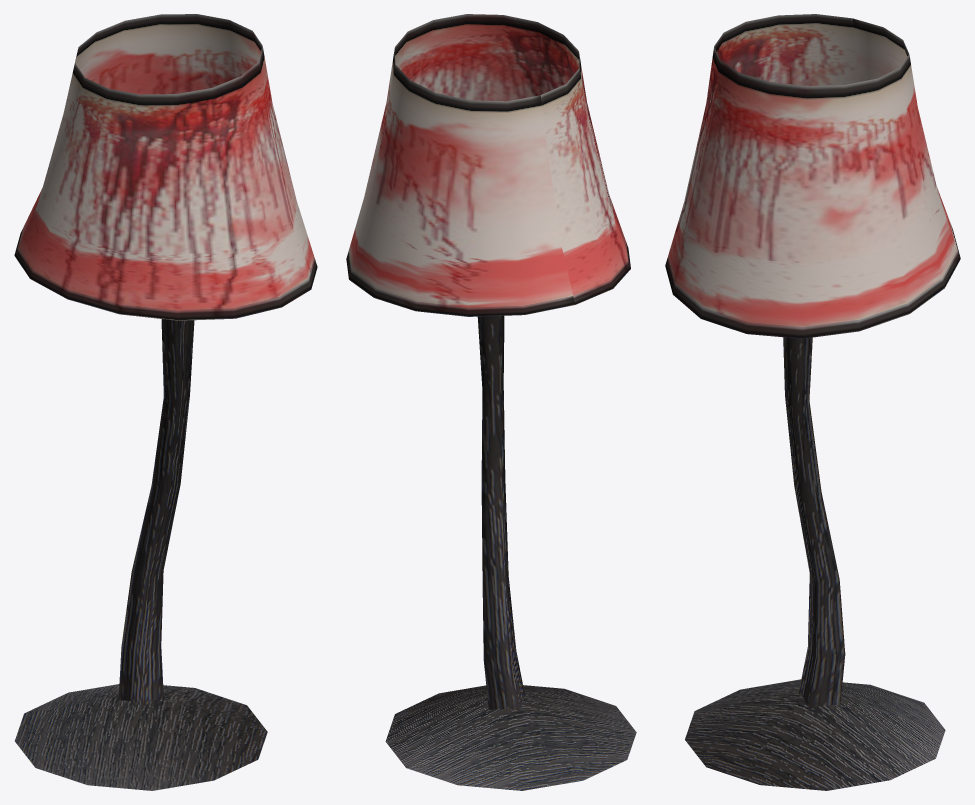
Rendered from Lamp.FBX.
The picture shows the model from 3 angles, left to right: view 1: azimuth 30°, elevation 25°; view 2: azimuth 150°, elevation 25°; view 3: azimuth 270°, elevation 25°; orthographic projection. The views are drawn at different scales.
Visible parts, largest first — view 1: Cylinder002; view 2: Cylinder002; view 3: Cylinder002.
Boxes of the visible parts, <box> form: Cylinder002: <box>14,14,317,790</box>; Cylinder002: <box>346,14,636,790</box>; Cylinder002: <box>665,14,960,790</box>.
Size of the model in its own units: 21.41 by 52.53 by 20.01.
2 materials, 2 textured.
